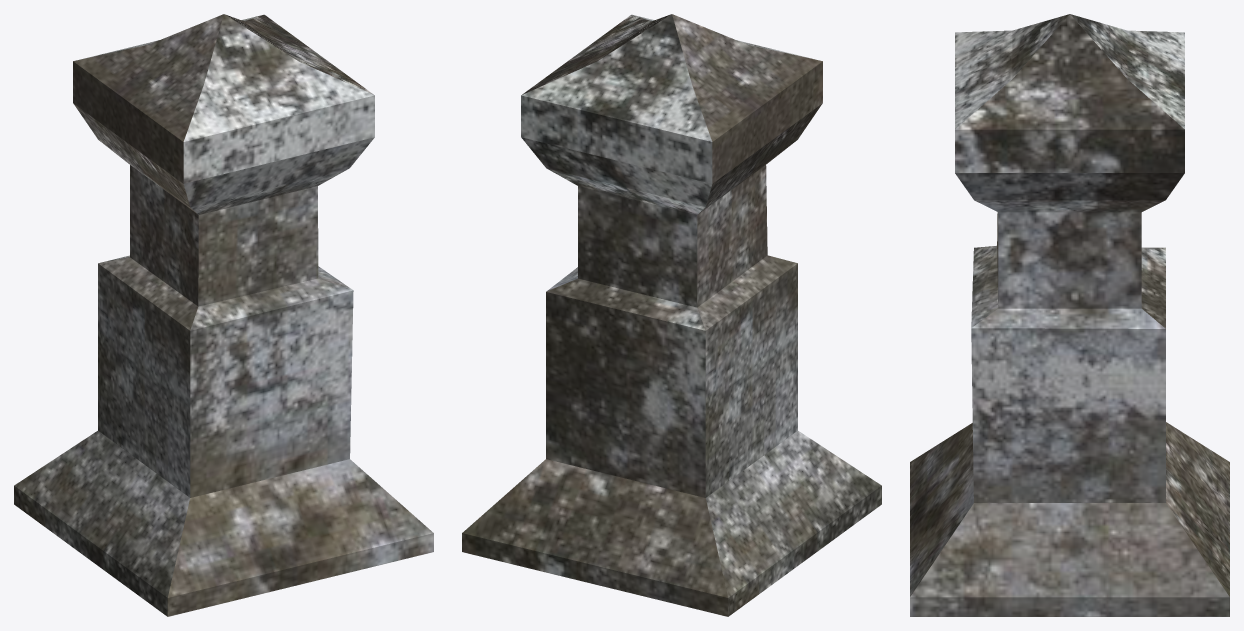
The model's file is tomb.dae.
3 views of the same model, side by side, from view 1: azimuth 30°, elevation 25°; view 2: azimuth 150°, elevation 25°; view 3: azimuth 270°, elevation 25° (orthographic). The views are drawn at different scales.
Parts seen in each view (by area): view 1: Cube; view 2: Cube; view 3: Cube.
Part boxes in pixels (bbox=[...]): Cube: bbox=[14, 14, 433, 616]; Cube: bbox=[462, 14, 881, 616]; Cube: bbox=[910, 14, 1229, 616].
Bounding box in the file's own units: 3.33 × 3.33 × 6.15.
1 material, 1 textured.
